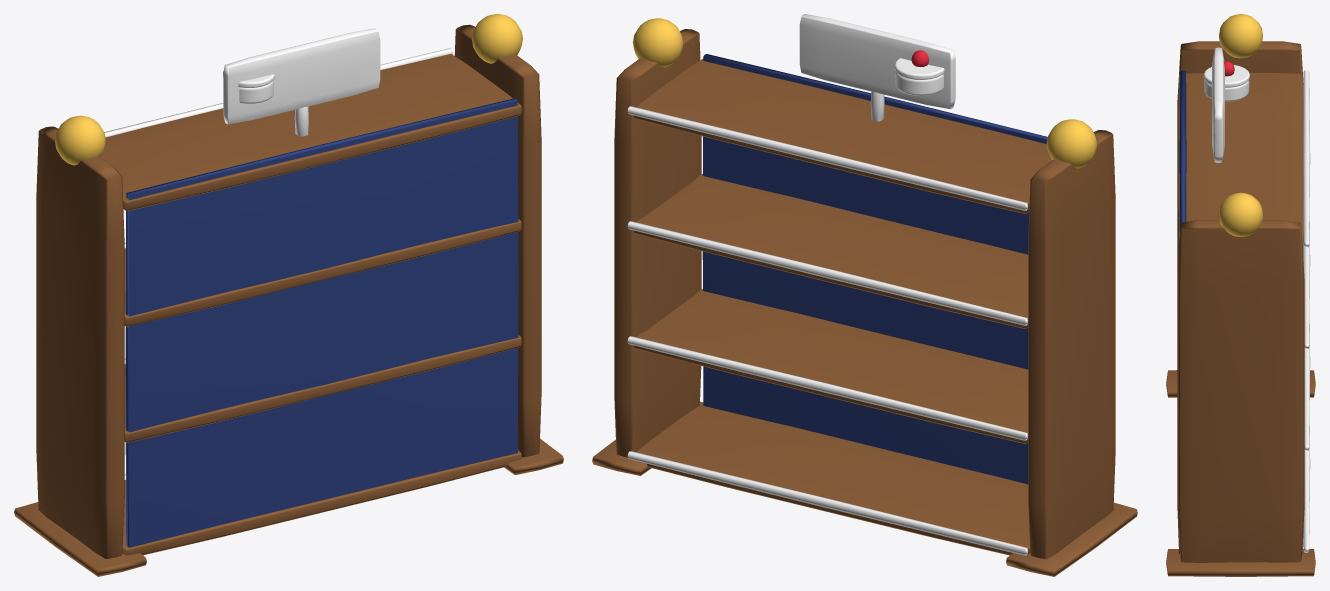
Rendered from CakeShelf.obj.
The picture shows the model from 3 angles, left to right: view 1: azimuth 30°, elevation 25°; view 2: azimuth 150°, elevation 25°; view 3: azimuth 270°, elevation 25°; orthographic projection. The views are drawn at different scales.
Parts seen in each view (by area): view 1: Back, Frame, Sign, Caps, Stripe, Icon; view 2: Frame, Back, Stripe, Sign, Caps, Icon; view 3: Frame, Stripe, Caps, Sign, Back, Icon.
Boxes of the visible parts, x1,y1,x2,y2 form: Back: (125,98,518,547); Frame: (14,24,563,576); Sign: (223,28,380,136); Caps: (55,14,522,165); Stripe: (104,48,453,479); Icon: (223,71,274,103); Frame: (592,29,1137,576); Back: (702,54,1047,484); Stripe: (627,106,1028,555); Sign: (799,14,955,121); Caps: (632,18,1096,168); Icon: (894,58,944,95); Frame: (1166,41,1315,576); Stripe: (1303,70,1310,552); Caps: (1219,14,1262,236); Sign: (1212,47,1224,162); Back: (1178,70,1186,255); Icon: (1203,65,1249,101).
Size of the model in its own units: 12.7 by 11.8 by 4.
